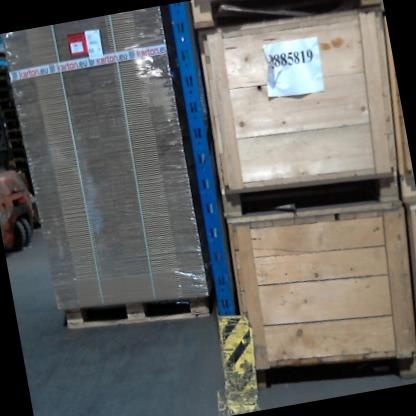forklift: (0, 62, 42, 256)
pallet: (64, 286, 211, 343)
